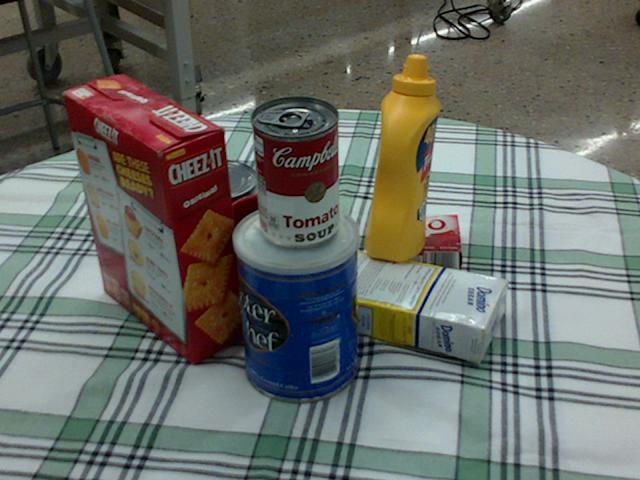cracker_box: (61, 77, 246, 362)
gelatin_box: (372, 214, 458, 272)
master_chef_can: (232, 201, 359, 402)
mug: (217, 192, 313, 303)
mustard_bottle: (365, 55, 440, 261)
potted_meat_can: (150, 180, 266, 270)
sugar_box: (301, 245, 508, 359)
tomato_soup_can: (248, 95, 337, 246)
tuna_fish_can: (174, 159, 258, 227)
